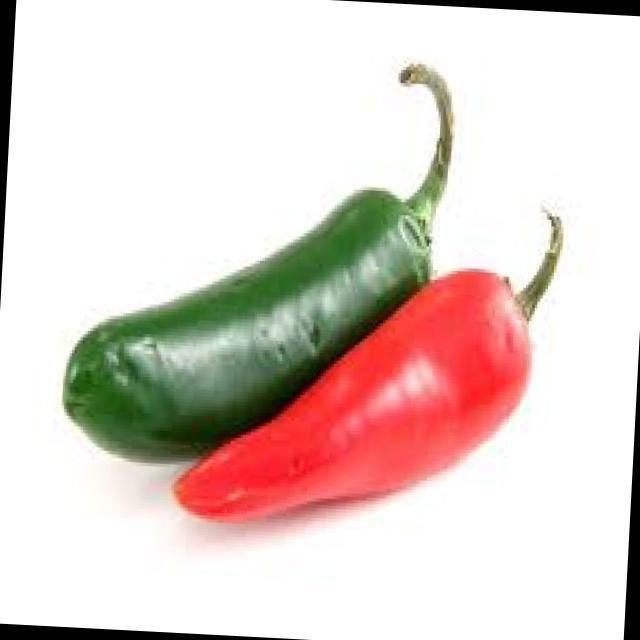Chili: (39, 22, 466, 492), (175, 178, 580, 541)
